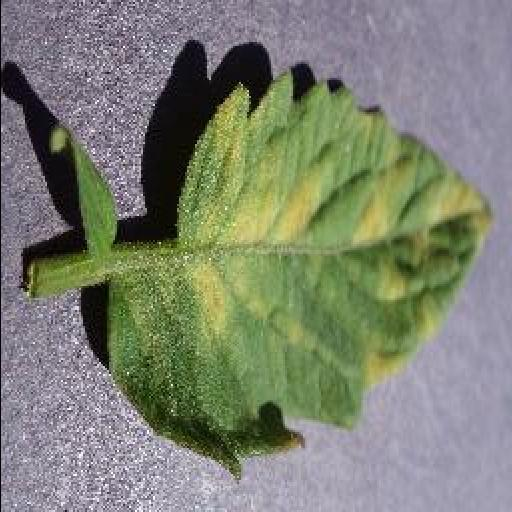disease_tomato: (106, 70, 494, 483)
